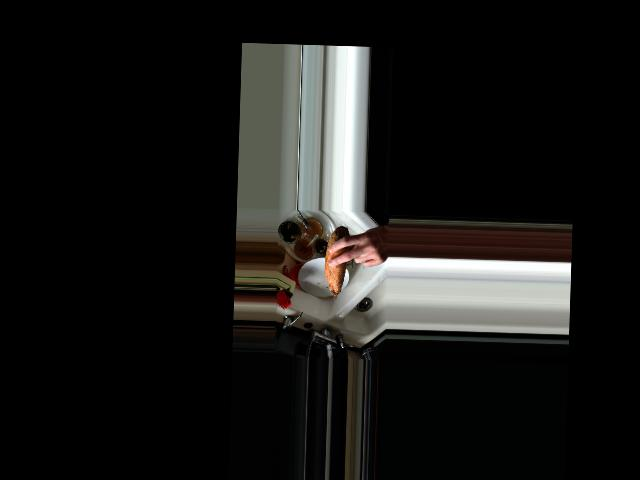sweet_potato: (324, 223, 353, 302)
